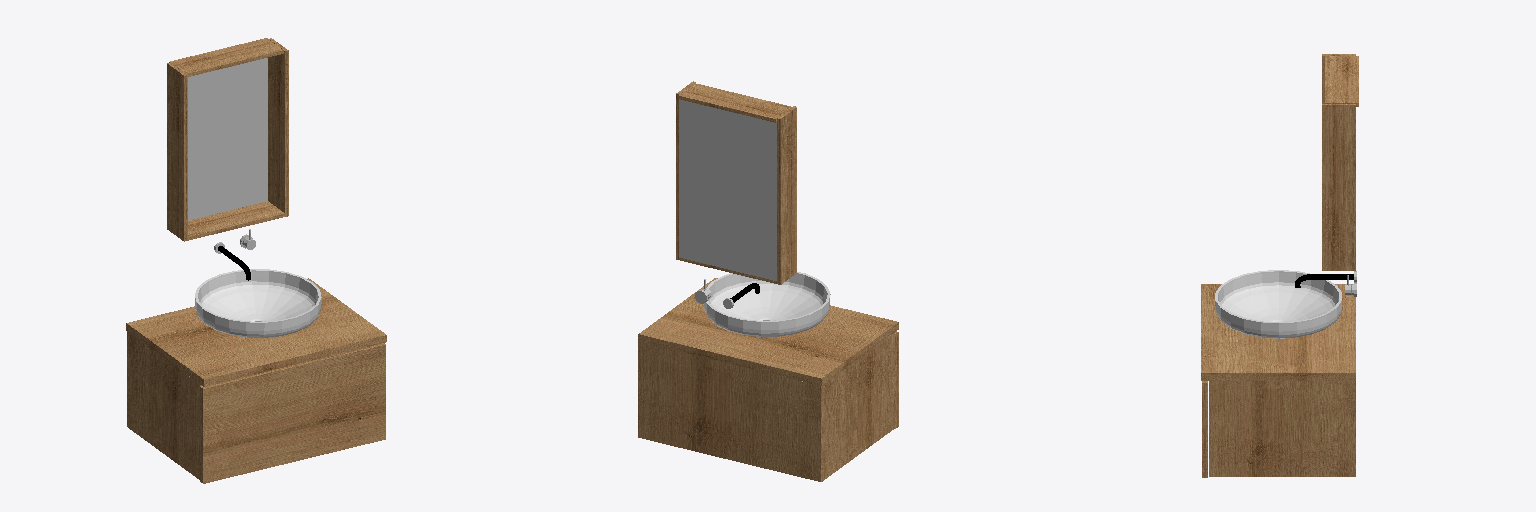
3 views of the same model, side by side, from view 1: azimuth 30°, elevation 25°; view 2: azimuth 150°, elevation 25°; view 3: azimuth 270°, elevation 25° (orthographic).
Parts seen in each view (by area): view 1: Cube.003_Cube.004, Plane.001, Cube_Cube.001, Circle_Circle.002, Cube.002_Cube.003, Cube.007_Cube.008, Cube.005_Cube.006, Cube.004_Cube.005, Cube.006_Cube.009; view 2: Cube.002_Cube.003, Plane.001, Cube_Cube.001, Circle_Circle.002, Cube.007_Cube.008, Cube.004_Cube.005, Cube.005_Cube.006; view 3: Cube.002_Cube.003, Cube_Cube.001, Circle_Circle.002, Cube.005_Cube.006, Cube.004_Cube.005, Cube.003_Cube.004.
Part boxes in pixels (left/top/right/bottom): Cube.003_Cube.004: left=200, top=343, right=385, bottom=483; Plane.001: left=188, top=58, right=267, bottom=220; Cube_Cube.001: left=126, top=278, right=386, bottom=386; Circle_Circle.002: left=195, top=269, right=321, bottom=337; Cube.002_Cube.003: left=127, top=331, right=201, bottom=479; Cube.007_Cube.008: left=167, top=63, right=187, bottom=241; Cube.005_Cube.006: left=268, top=38, right=288, bottom=216; Cube.004_Cube.005: left=169, top=38, right=283, bottom=76; Cube.006_Cube.009: left=188, top=201, right=284, bottom=240; Cube.002_Cube.003: left=638, top=333, right=894, bottom=481; Plane.001: left=679, top=99, right=776, bottom=280; Cube_Cube.001: left=638, top=278, right=898, bottom=385; Circle_Circle.002: left=704, top=272, right=830, bottom=336; Cube.007_Cube.008: left=777, top=106, right=796, bottom=284; Cube.004_Cube.005: left=678, top=83, right=791, bottom=122; Cube.005_Cube.006: left=676, top=81, right=695, bottom=259; Cube.002_Cube.003: left=1209, top=381, right=1355, bottom=476; Cube_Cube.001: left=1201, top=284, right=1355, bottom=380; Circle_Circle.002: left=1215, top=270, right=1341, bottom=338; Cube.005_Cube.006: left=1322, top=104, right=1355, bottom=270; Cube.004_Cube.005: left=1325, top=56, right=1358, bottom=106; Cube.003_Cube.004: left=1202, top=381, right=1207, bottom=477.
Size of the model in its own units: 1.85 by 3.41 by 1.38.
Materials: 12 (2 with a texture image).